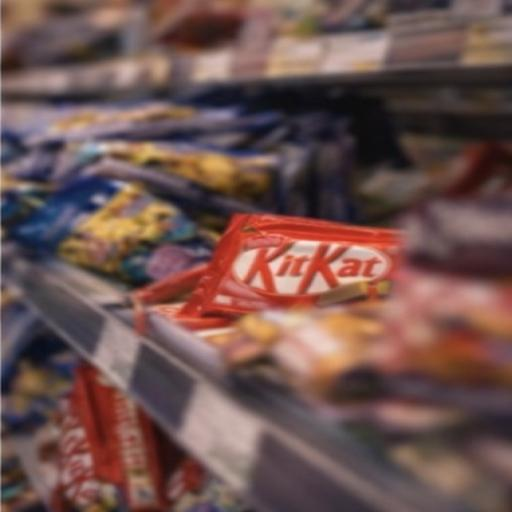kitkat: (155, 177, 497, 374)
